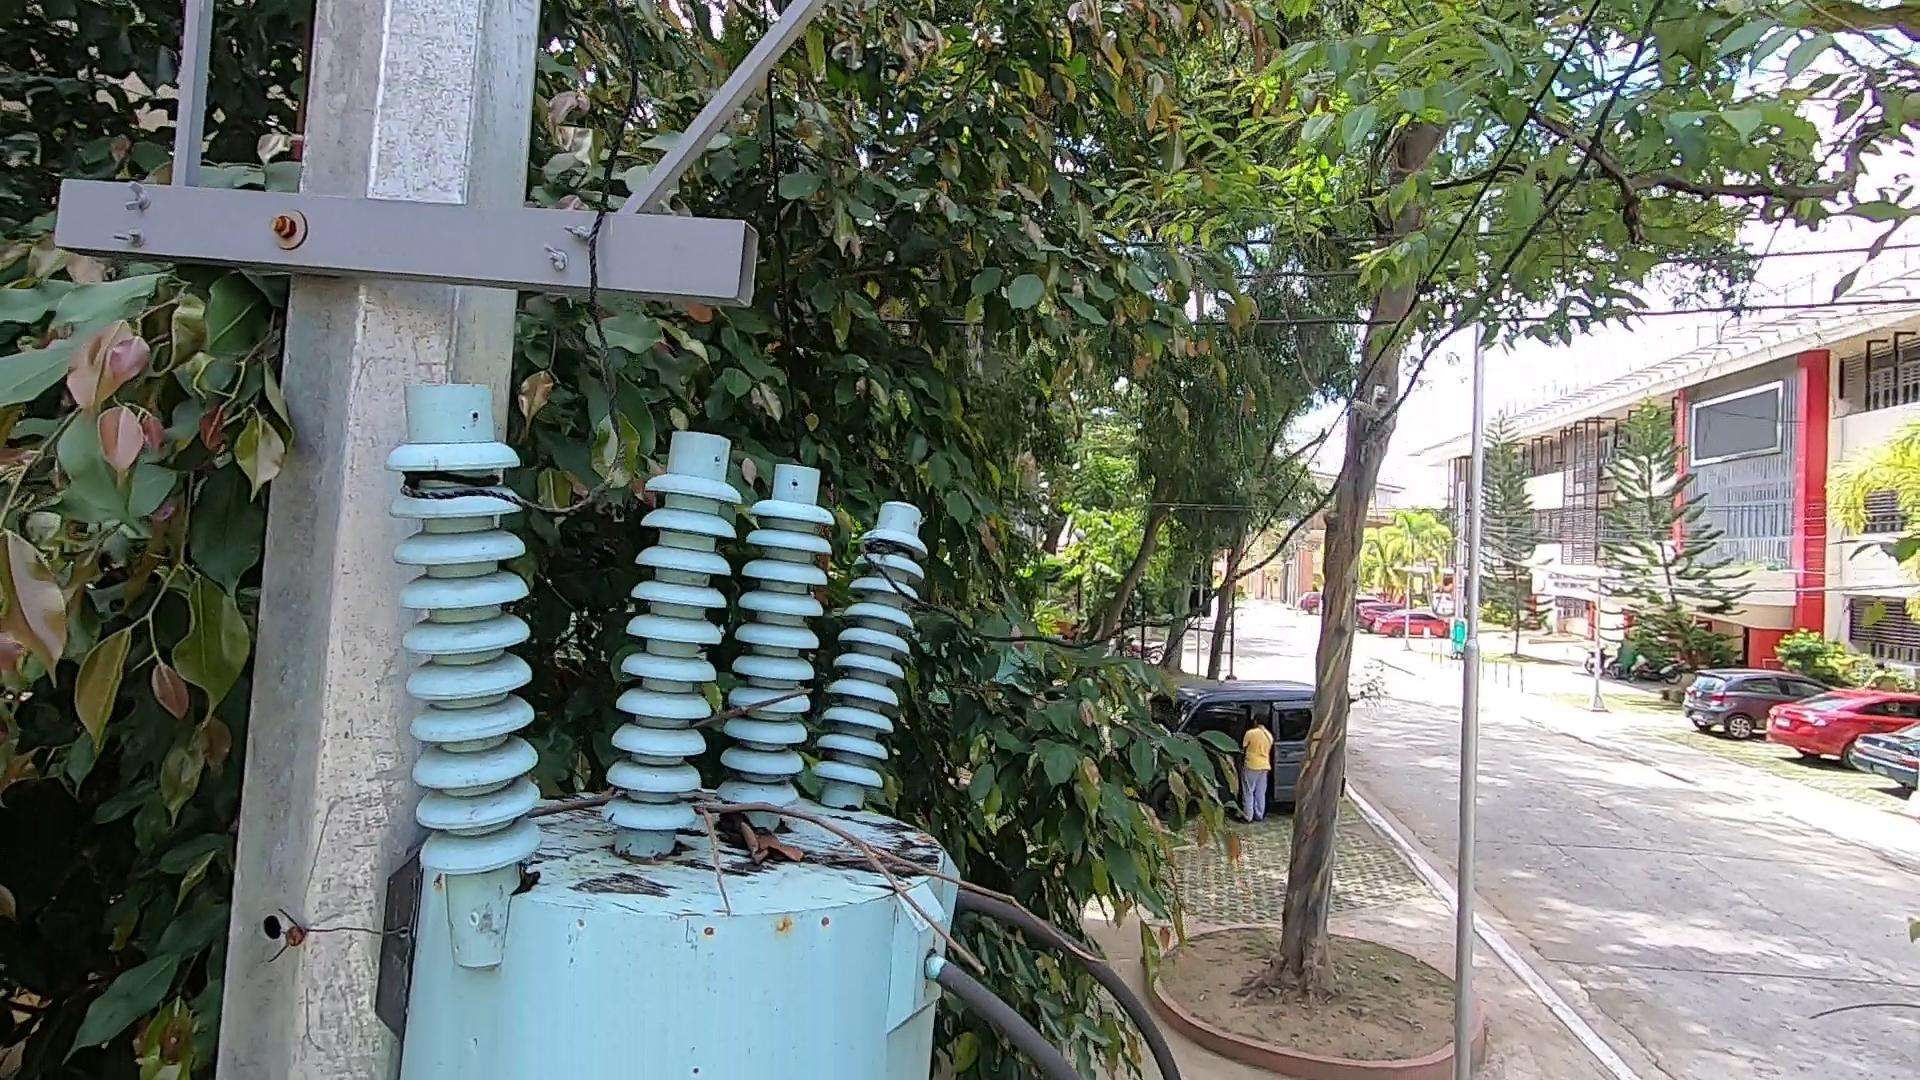leaf: (692, 804, 811, 873)
tree branch: (487, 738, 1117, 1029)
